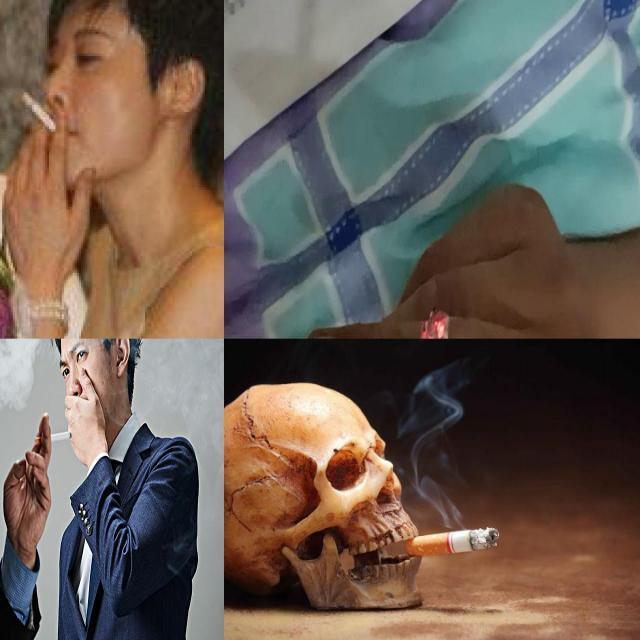cigarette: (10, 77, 60, 136), (405, 527, 499, 557), (384, 304, 450, 338), (34, 431, 74, 446)
